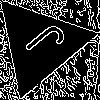J: (15, 19, 69, 69)
